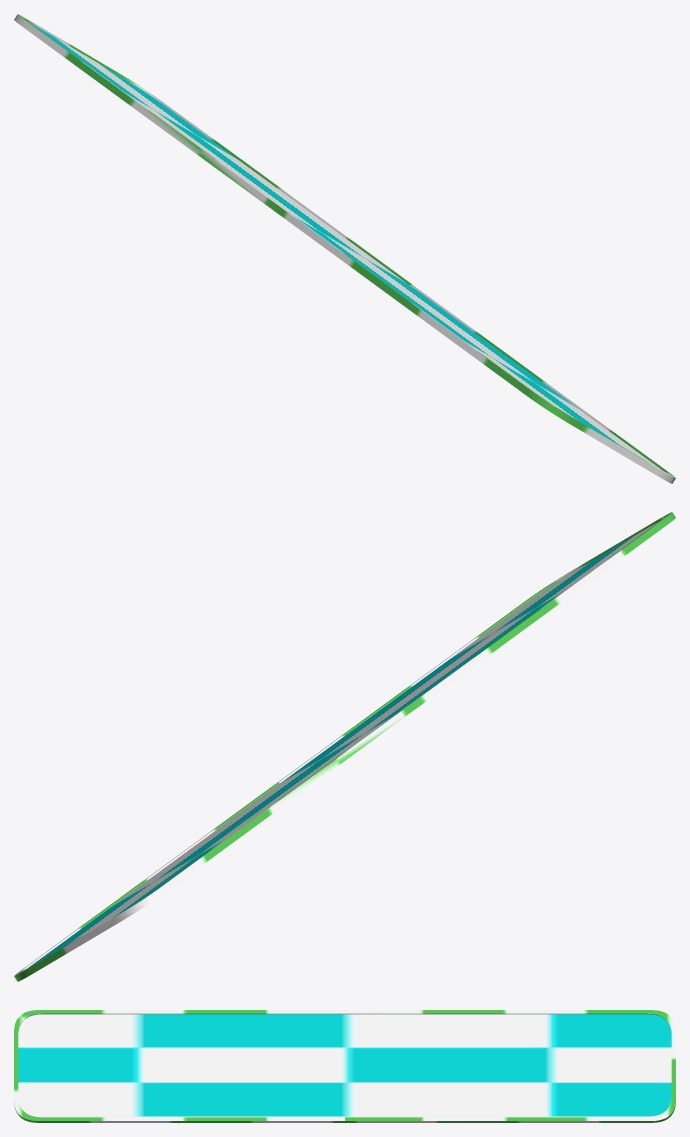
File: PanelCorridorLight.FBX
3 renders of one model, top to bottom at view 1: azimuth 30°, elevation 25°; view 2: azimuth 150°, elevation 25°; view 3: azimuth 270°, elevation 25°, orthographic. The views are drawn at different scales.
Visible parts, largest first — view 1: PanelCorridorLight_Light, PanelCorridorLight_Body; view 2: PanelCorridorLight_Light, PanelCorridorLight_Body; view 3: PanelCorridorLight_Light, PanelCorridorLight_Body.
Boxes of the visible parts, x1=… form: PanelCorridorLight_Light: x1=30, y1=23, x2=661, y2=469; PanelCorridorLight_Body: x1=14, y1=14, x2=675, y2=483; PanelCorridorLight_Light: x1=28, y1=521, x2=659, y2=967; PanelCorridorLight_Body: x1=14, y1=512, x2=675, y2=981; PanelCorridorLight_Light: x1=18, y1=1014, x2=671, y2=1116; PanelCorridorLight_Body: x1=14, y1=1010, x2=675, y2=1122.
Size of the model in its own units: 23.83 by 159 by 19.32.
